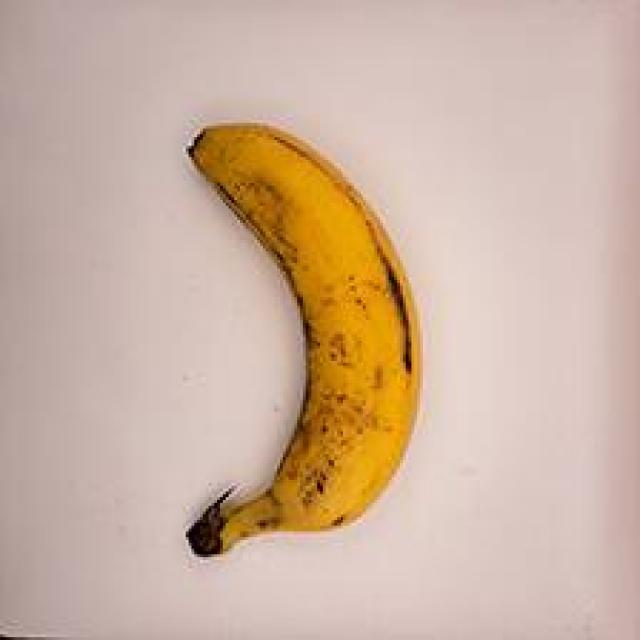Overripe: (131, 104, 465, 589)
